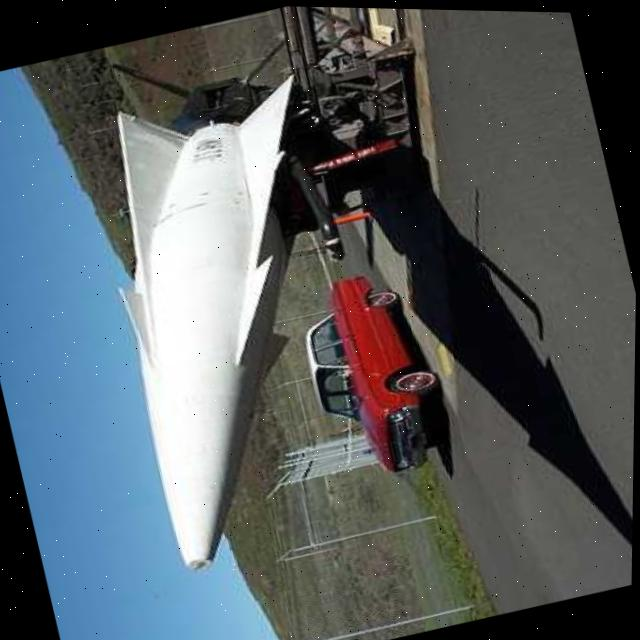missile: (57, 21, 423, 575)
